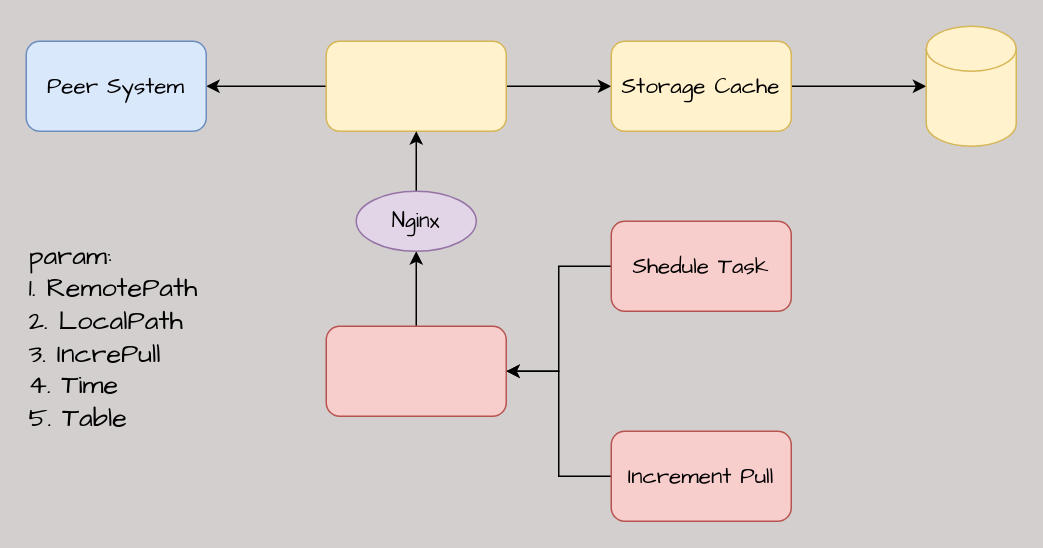
This 1043x548 diagram has some shape labels left out. The box of each missing label's shape, as (x1, y1, x2, y2) in pixels:
Banked: (325, 325, 506, 416)
Bearer Network: (325, 40, 506, 131)
CK: (925, 25, 1016, 146)
